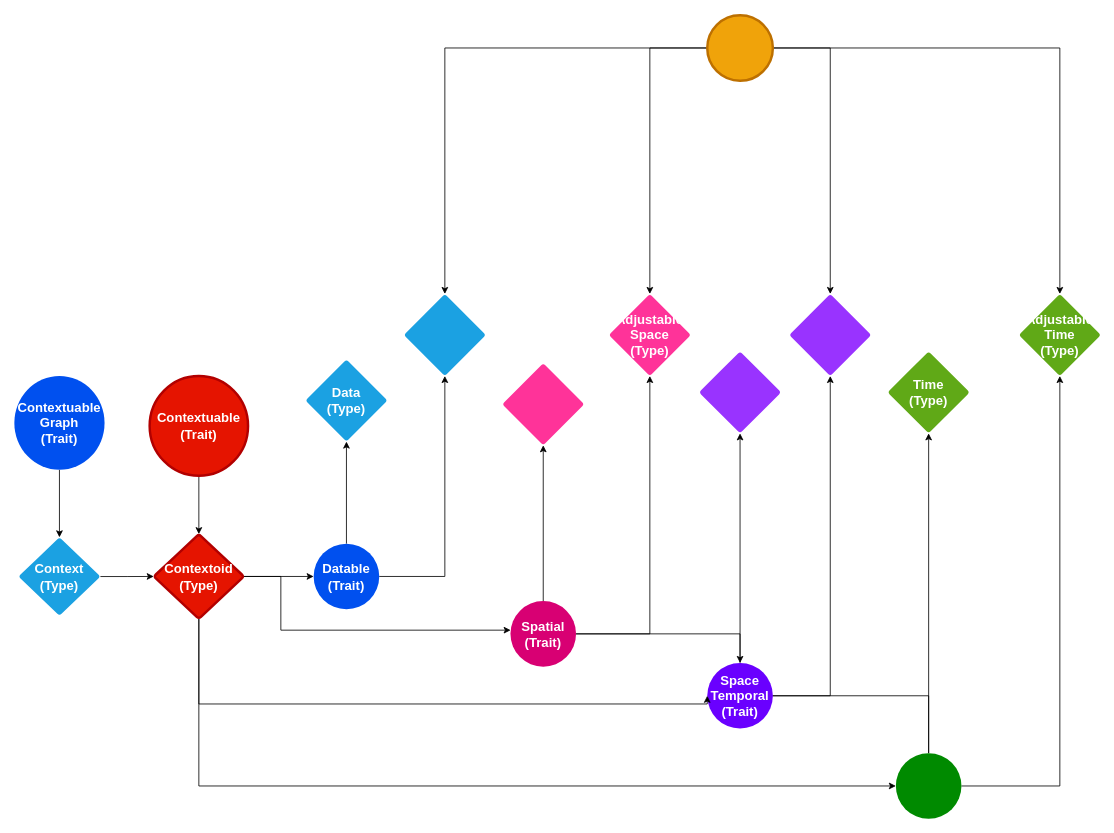
Image size: 1114x833. Some labels were removed from this diagram. The shapes that lost their labels are listed below. From the top down, each one's centre as x and y in pixels, then its label:
At (x=740, y=48): "Adjustable (Trait)".
At (x=444, y=335): "Adjustable Data (Type)".
At (x=830, y=335): "Adjustable Space Time (Type)".
At (x=543, y=404): "Space (Type)".
At (x=740, y=392): "Space Time (Type)".
At (x=928, y=785): "Temporal (Trait)".
